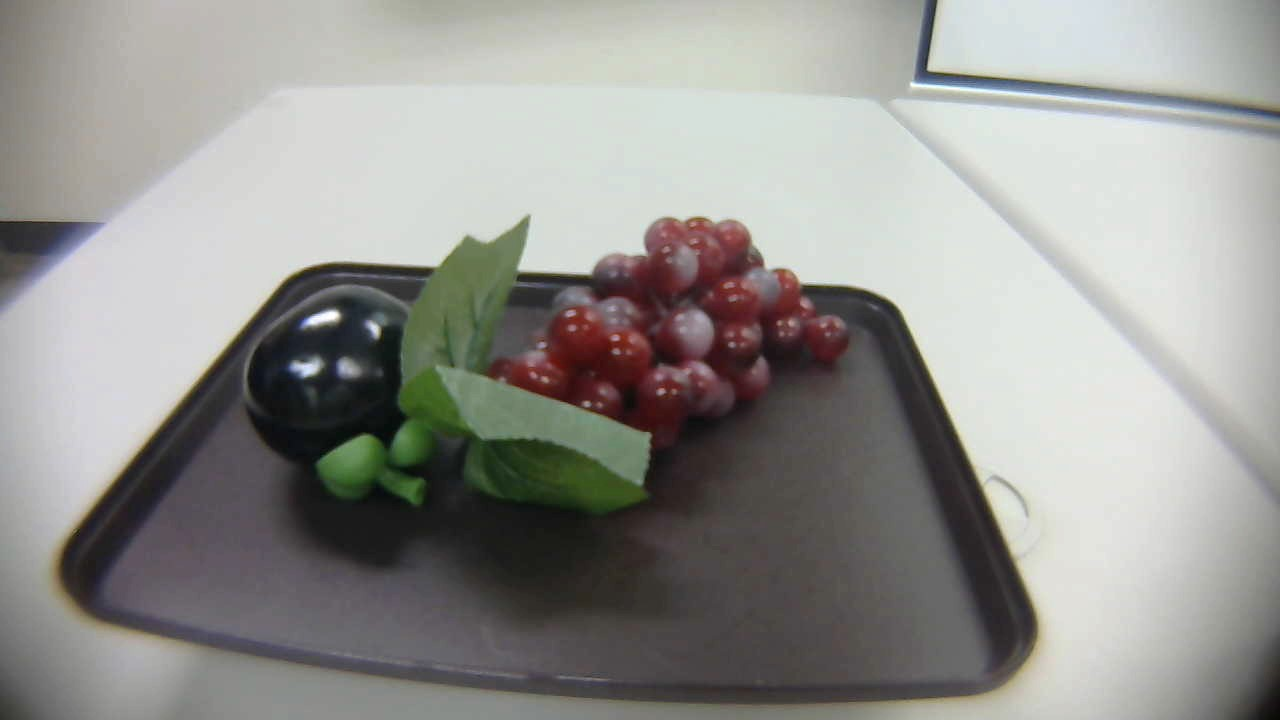grape: (315, 197, 860, 517)
mangosteen: (235, 278, 453, 535)
